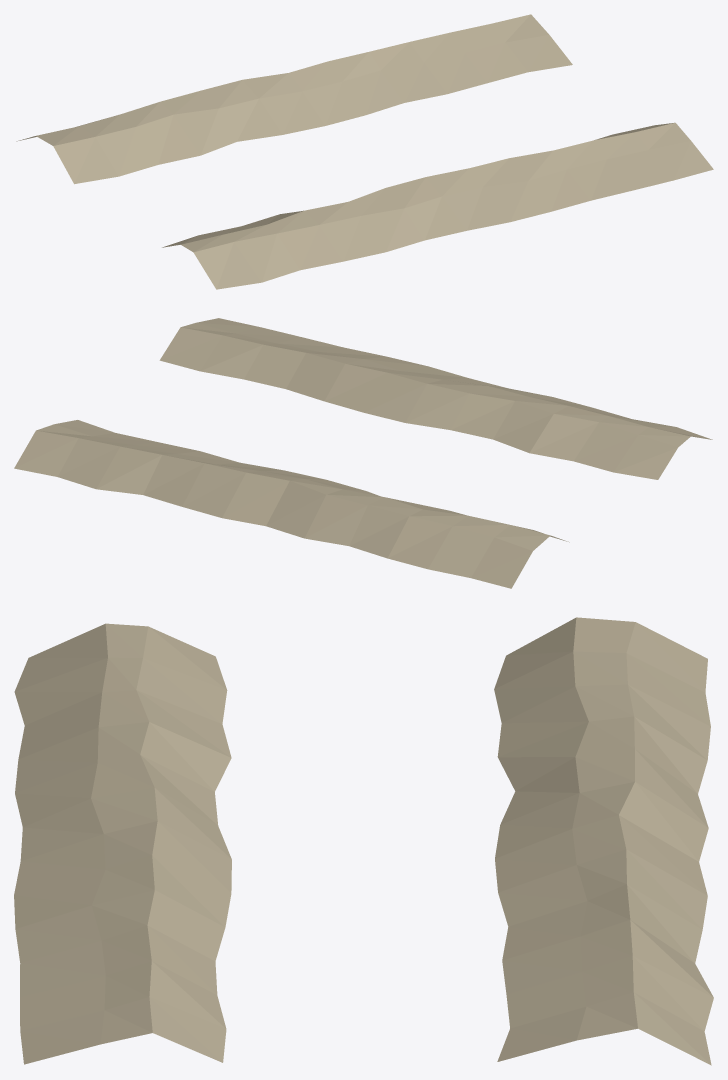
File: path_cut_berms.glb
The picture shows the model from 3 angles, top to bottom: view 1: azimuth 30°, elevation 25°; view 2: azimuth 150°, elevation 25°; view 3: azimuth 270°, elevation 25°; orthographic projection. The views are drawn at different scales.
Parts seen in each view (by area): view 1: right_berm, left_berm; view 2: left_berm, right_berm; view 3: right_berm, left_berm.
Boxes of the visible parts, x1,y1,x2,y2 form: right_berm: (162, 122, 713, 289); left_berm: (16, 14, 572, 184); left_berm: (14, 420, 569, 588); right_berm: (159, 318, 712, 479); right_berm: (14, 623, 231, 1064); left_berm: (494, 617, 713, 1065).
Bounding box in the file's own units: 8 × 0.4338 × 5.82.
